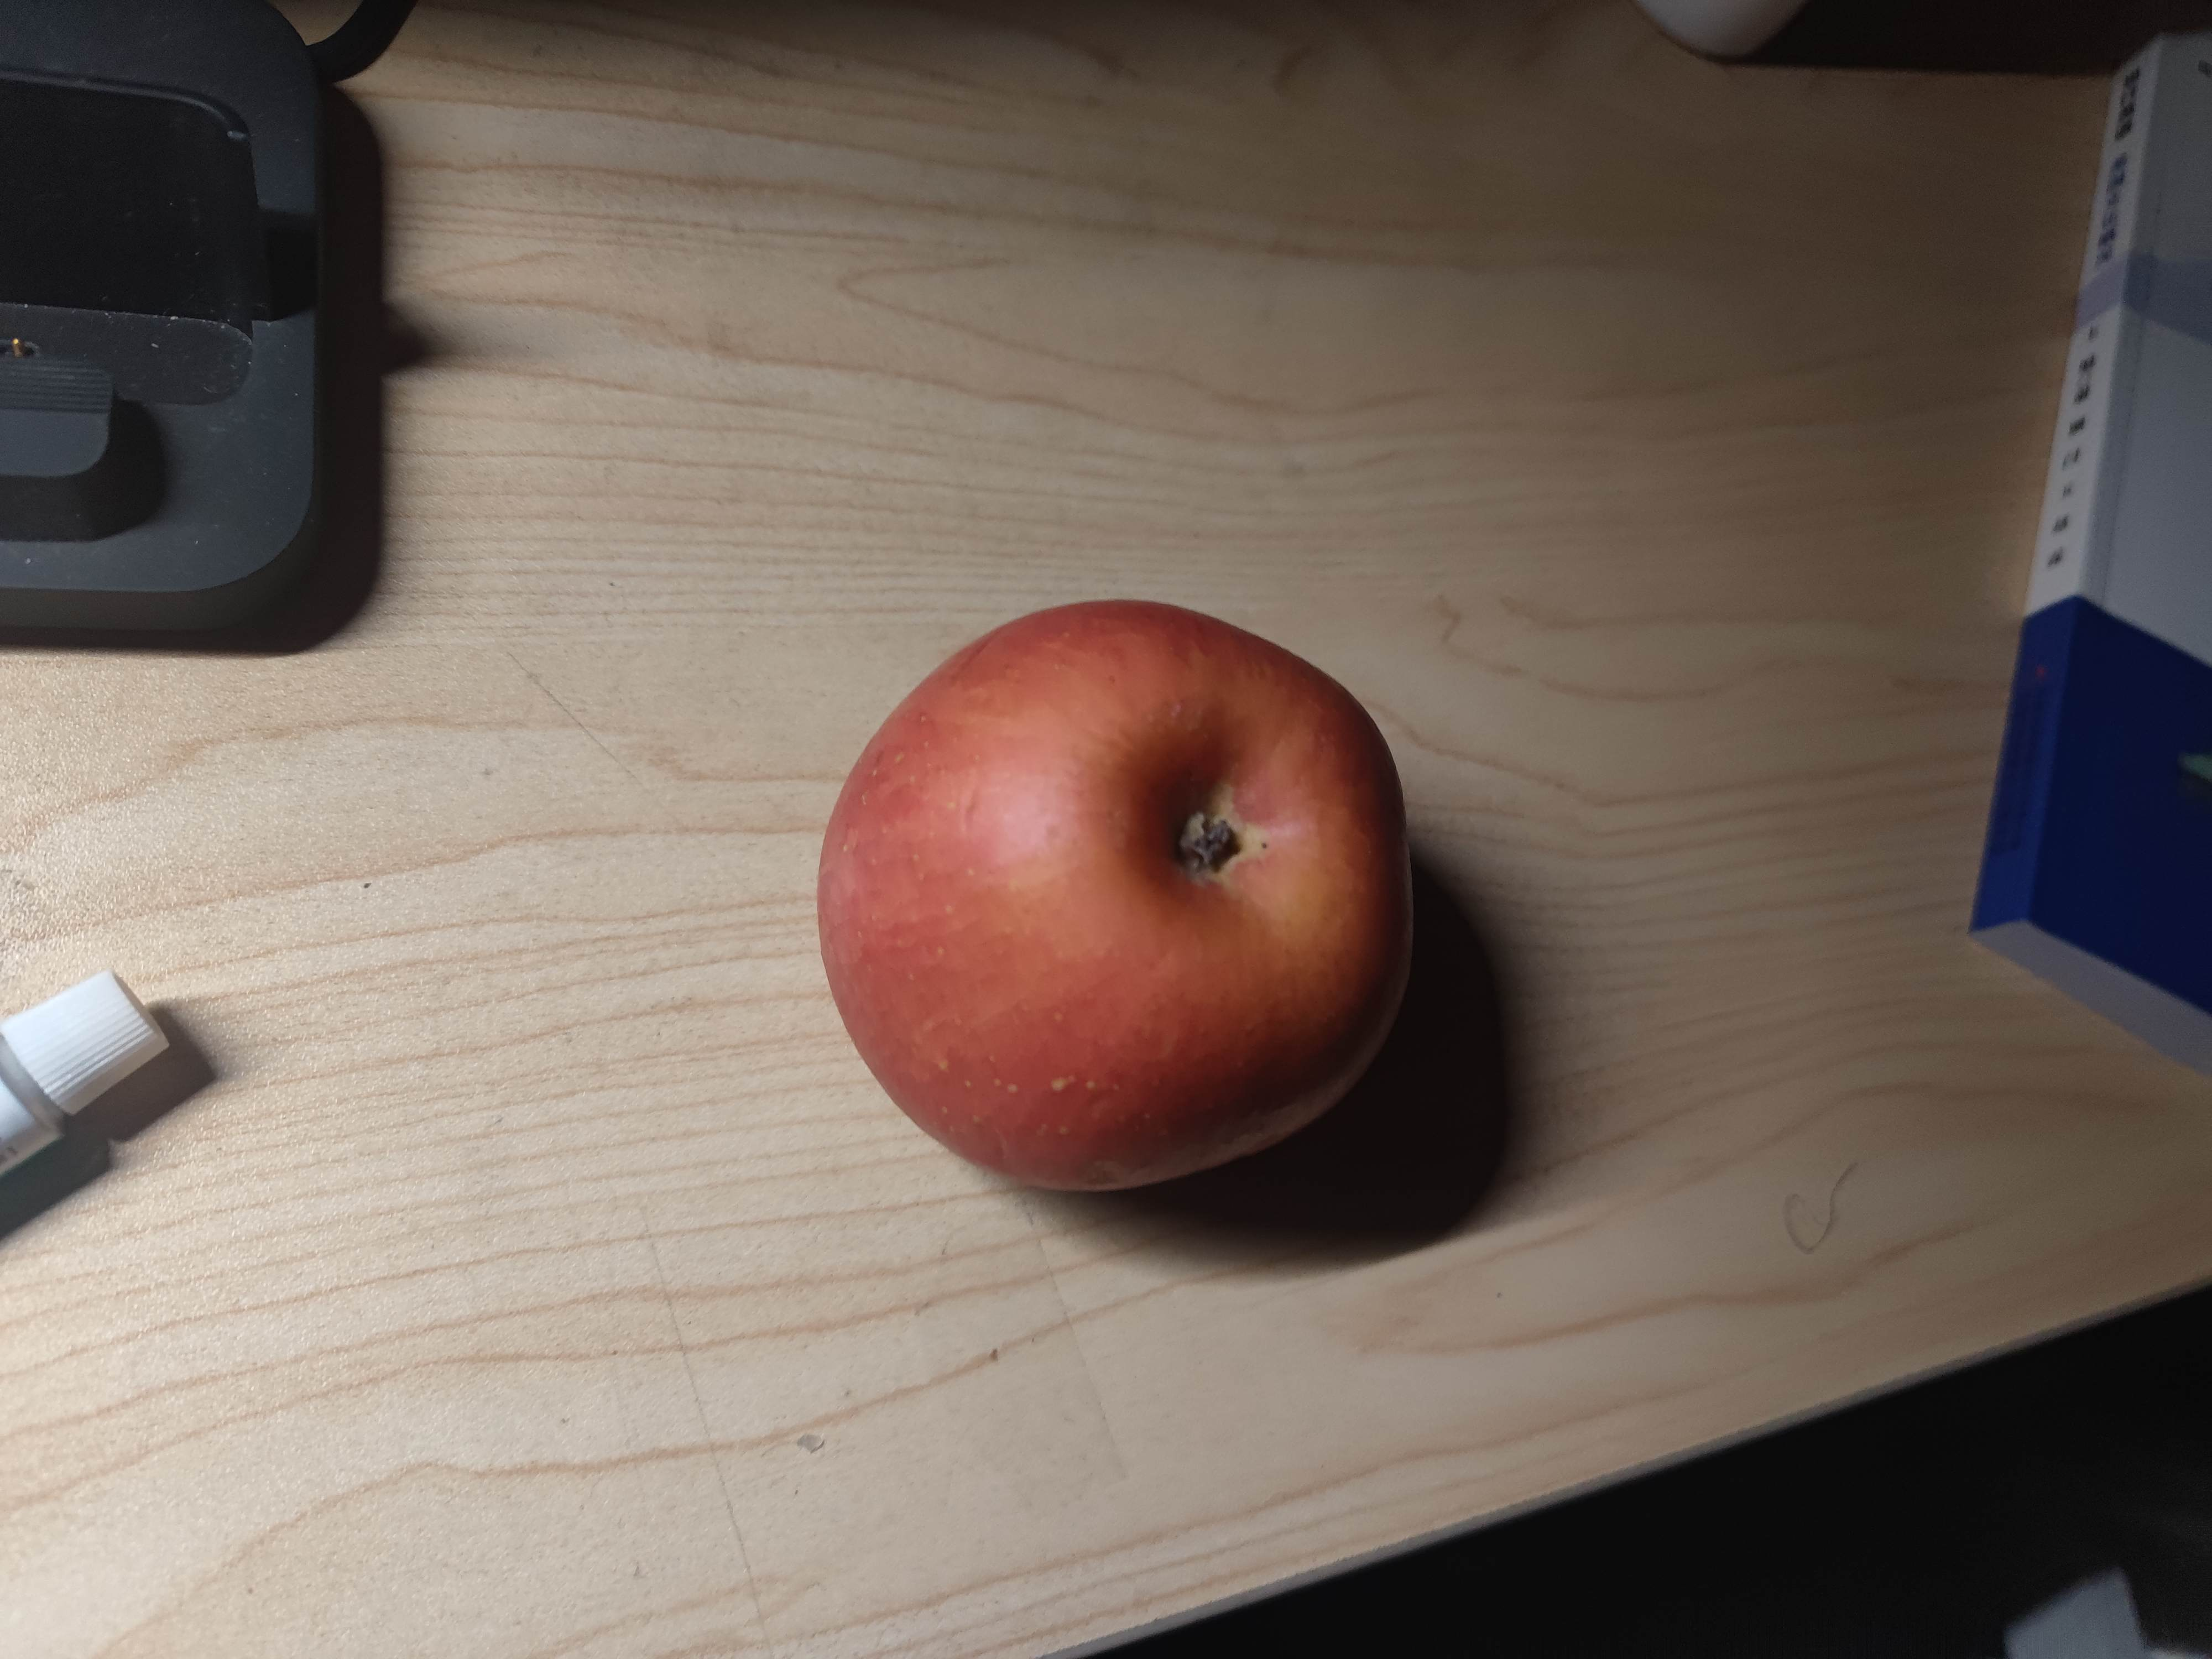apple: (813, 594, 1433, 1211)
